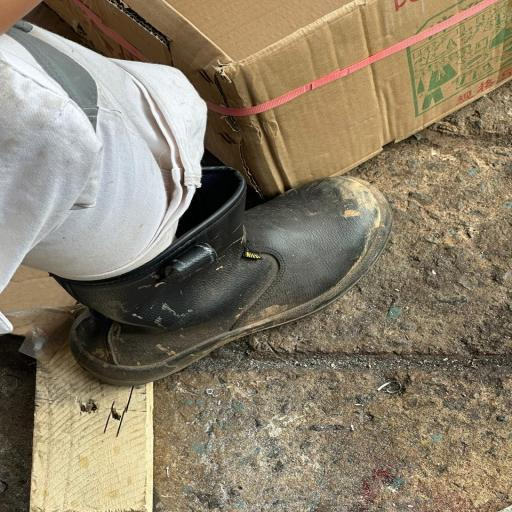safety_shoe: (68, 166, 447, 386)
